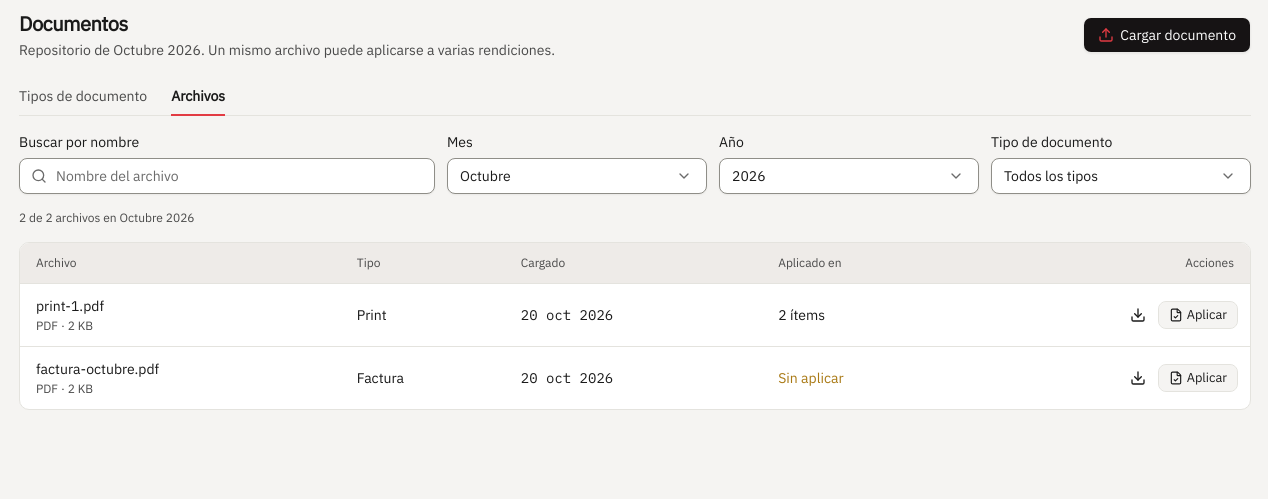
Test: ArchivosPage: repositorio › busca por nombre sin distinguir acentos y ofrece limpiar los filtros
Expected: the button "print-1.pdf" is shown, [36,296,104,316]
Step 1. Type "FACTURA" into the search field labelled "Buscar por nombre" → [227, 176], box [19,158,435,194]
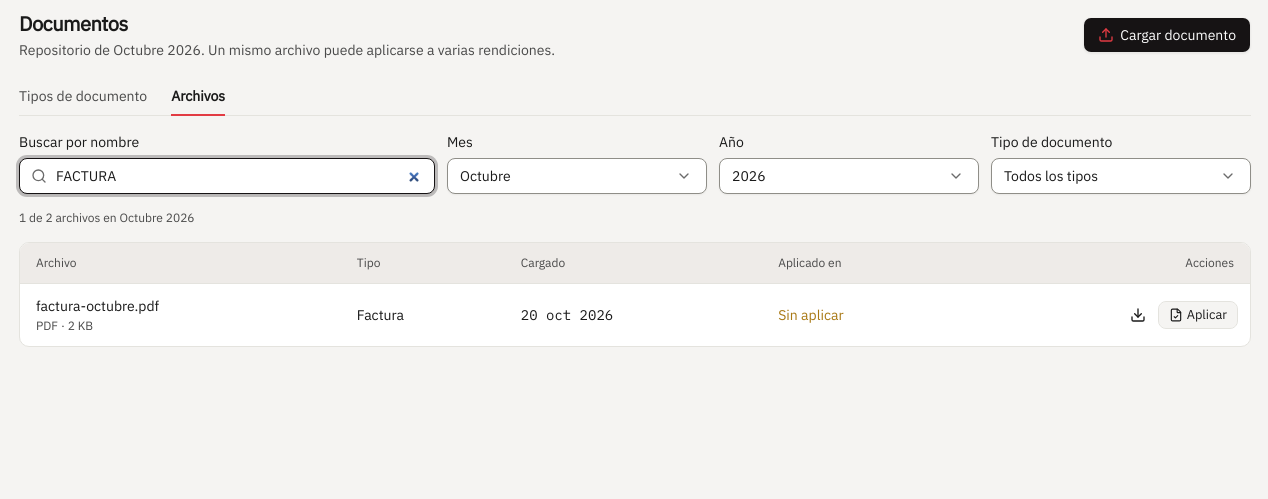
Expected: the button "factura-octubre.pdf" is shown, [36,296,159,316]
Expected: the button "print-1.pdf" is gone
Step 2. Replace the text in the search field labelled "Buscar por nombre" with "zzz" → [227, 176], box [19,158,435,194]
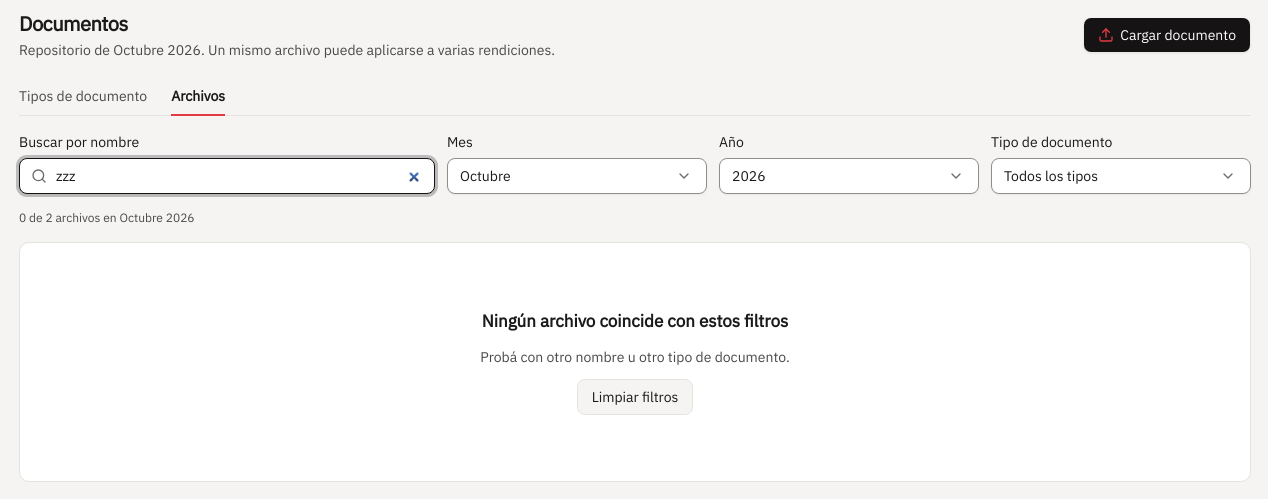
Expected: the heading "Ningún archivo coincide con estos filtros" is shown, [482,309,788,335]
Step 3. Click the button "Limpiar filtros" → [635, 397], box [577,379,693,415]
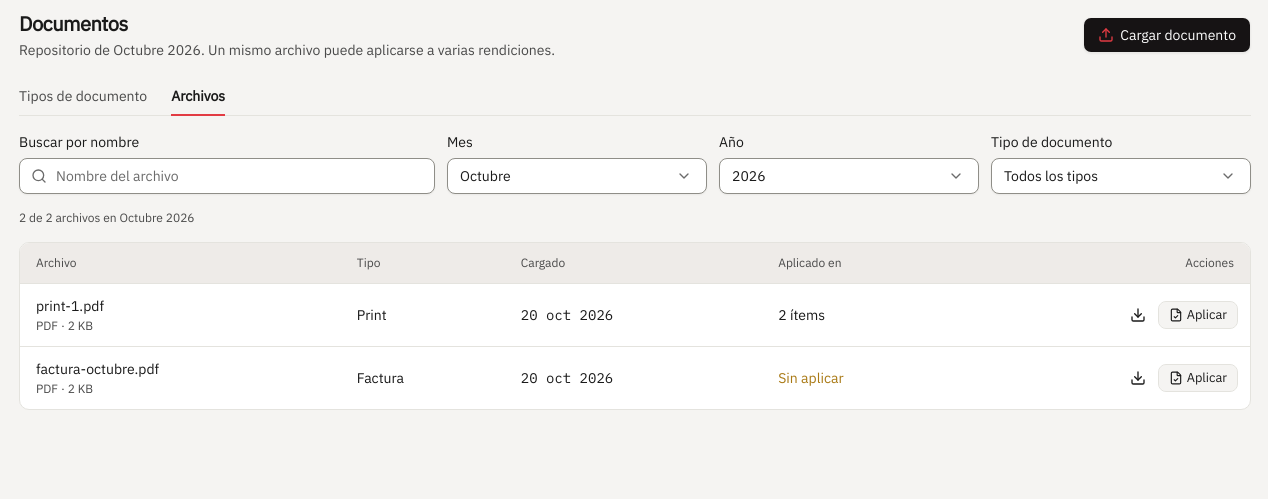
Expected: the button "print-1.pdf" is shown, [36,296,104,316]
